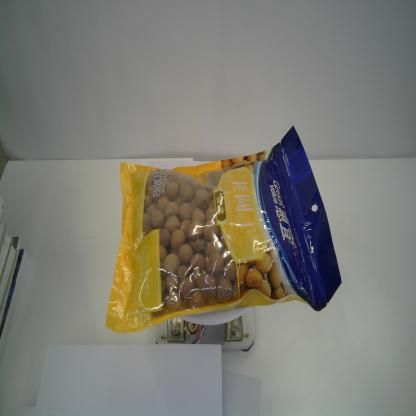Dried Food: (105, 124, 342, 335)
